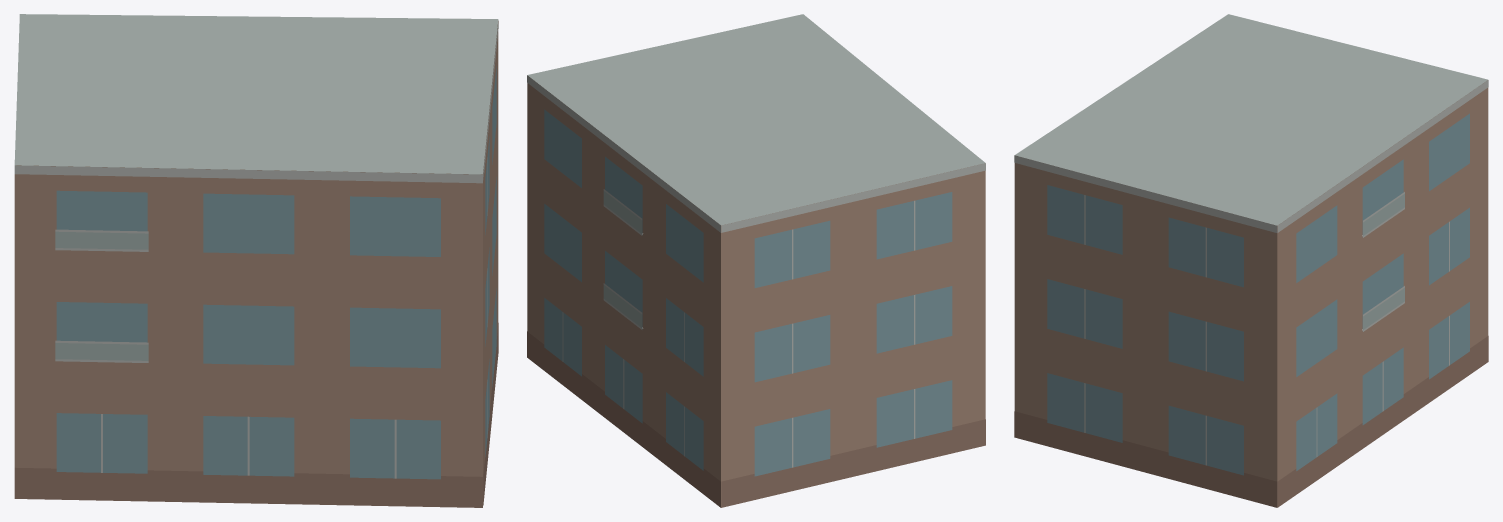
File: survey-upis-32776738.glb
The picture shows the model from 3 angles, left to right: view 1: azimuth 30°, elevation 25°; view 2: azimuth 150°, elevation 25°; view 3: azimuth 270°, elevation 25°; orthographic projection. The views are drawn at different scales.
Visible parts, largest first — view 1: survey-upis-32776738.tmp; view 2: survey-upis-32776738.tmp; view 3: survey-upis-32776738.tmp.
Boxes of the visible parts, x1,y1,x2,y2 form: survey-upis-32776738.tmp: (14,14,498,507); survey-upis-32776738.tmp: (527,14,985,507); survey-upis-32776738.tmp: (1014,14,1488,507).
Size of the model in its own units: 14.73 by 9.15 by 13.94.
